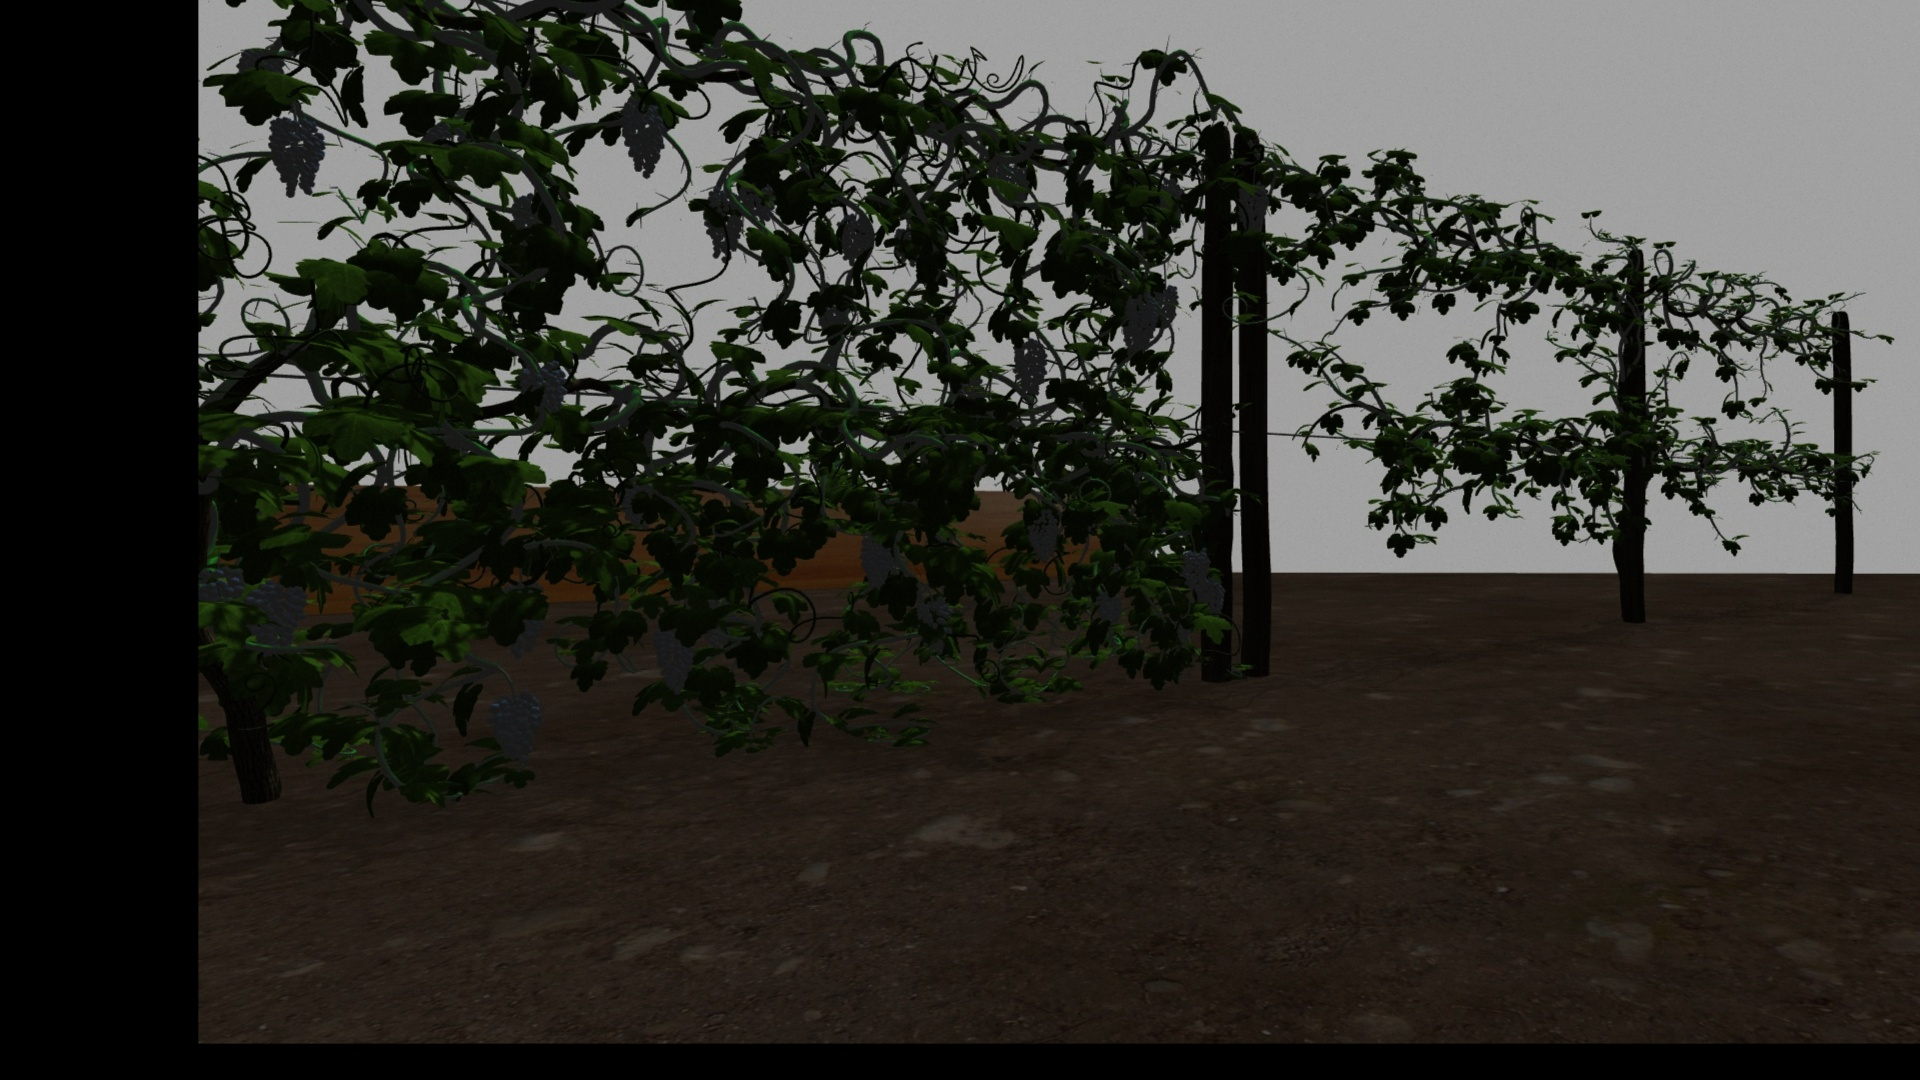grape: (244, 578, 306, 657), (266, 115, 324, 196), (488, 692, 541, 764), (516, 357, 567, 430), (621, 95, 666, 175), (650, 624, 696, 696), (703, 191, 742, 261), (1118, 293, 1160, 355), (858, 534, 895, 597), (1014, 340, 1050, 400), (1026, 508, 1062, 564), (837, 214, 872, 265), (1236, 185, 1270, 232), (1095, 583, 1127, 632), (913, 593, 953, 629), (1193, 575, 1225, 616), (1178, 549, 1208, 588), (1153, 285, 1179, 326)
